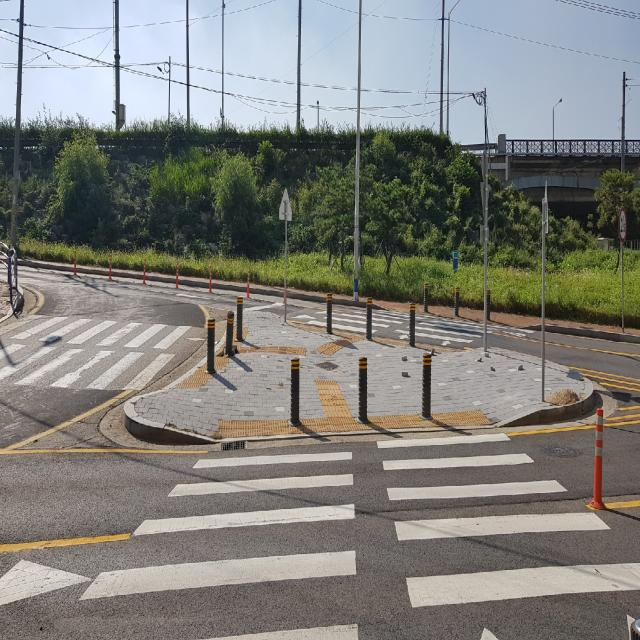횡단보도: (75, 430, 638, 640), (2, 303, 195, 401), (300, 290, 534, 358)
